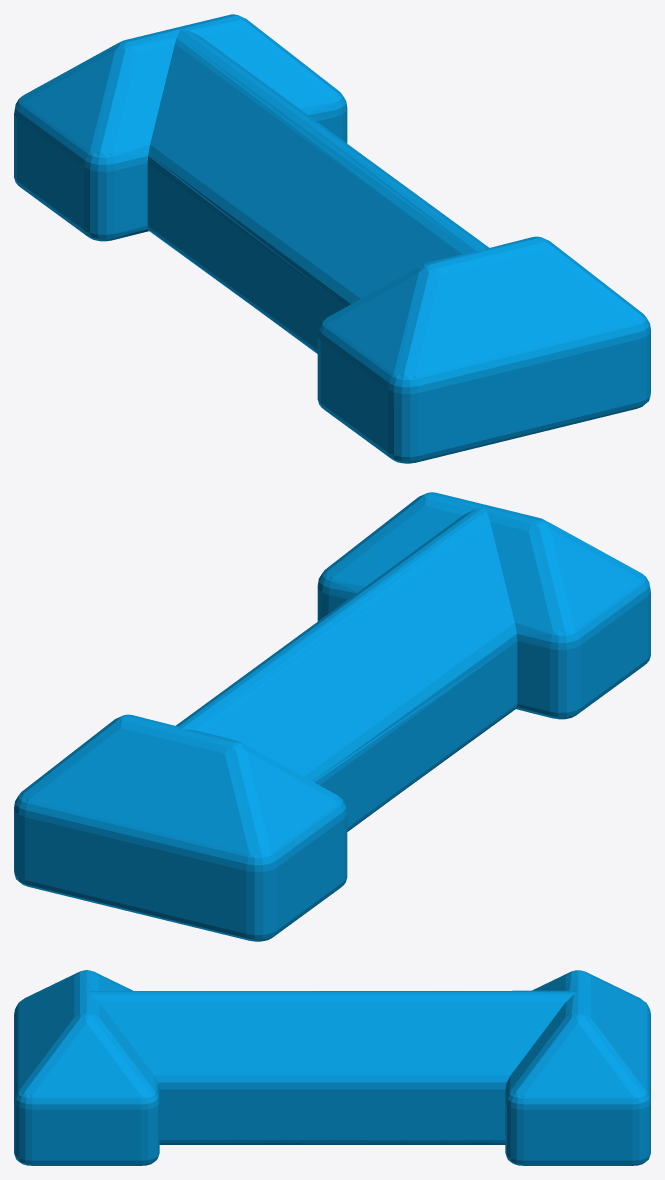
3 renders of one model, top to bottom at view 1: azimuth 30°, elevation 25°; view 2: azimuth 150°, elevation 25°; view 3: azimuth 270°, elevation 25°, orthographic. The views are drawn at different scales.
Bounding box in the file's own units: 0.00743 × 0.00422 × 0.0195.
